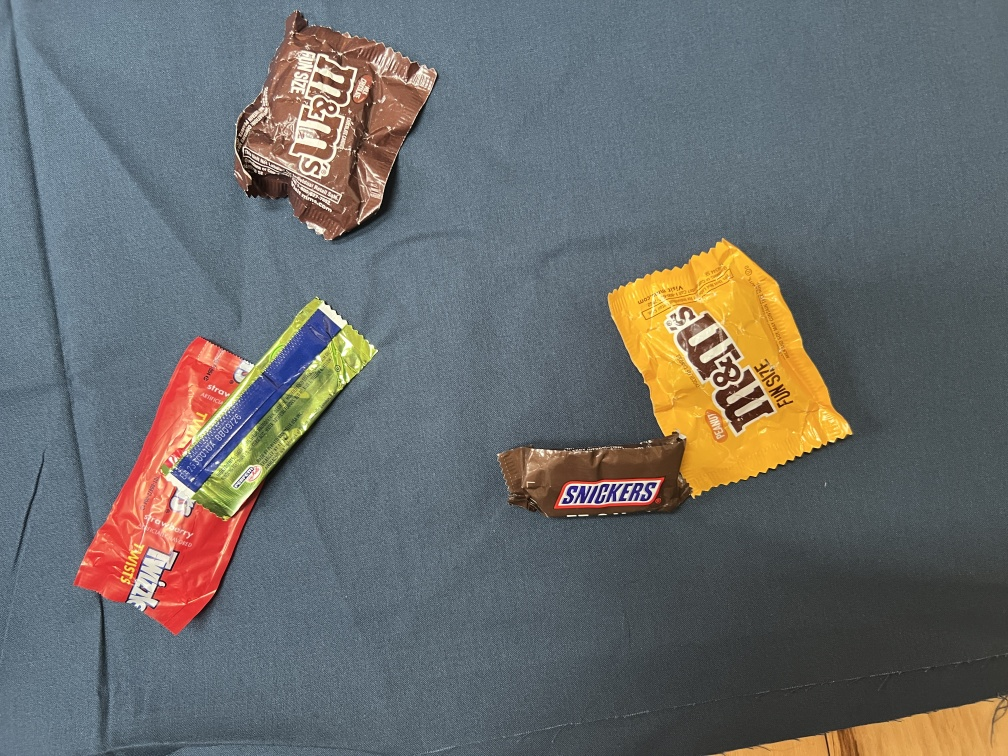MMs_peanut: (228, 8, 420, 249)
MMs_regular: (598, 229, 860, 498)
airheads: (168, 290, 431, 537)
snickers: (481, 440, 706, 522)
twizzlers: (79, 325, 274, 647)
